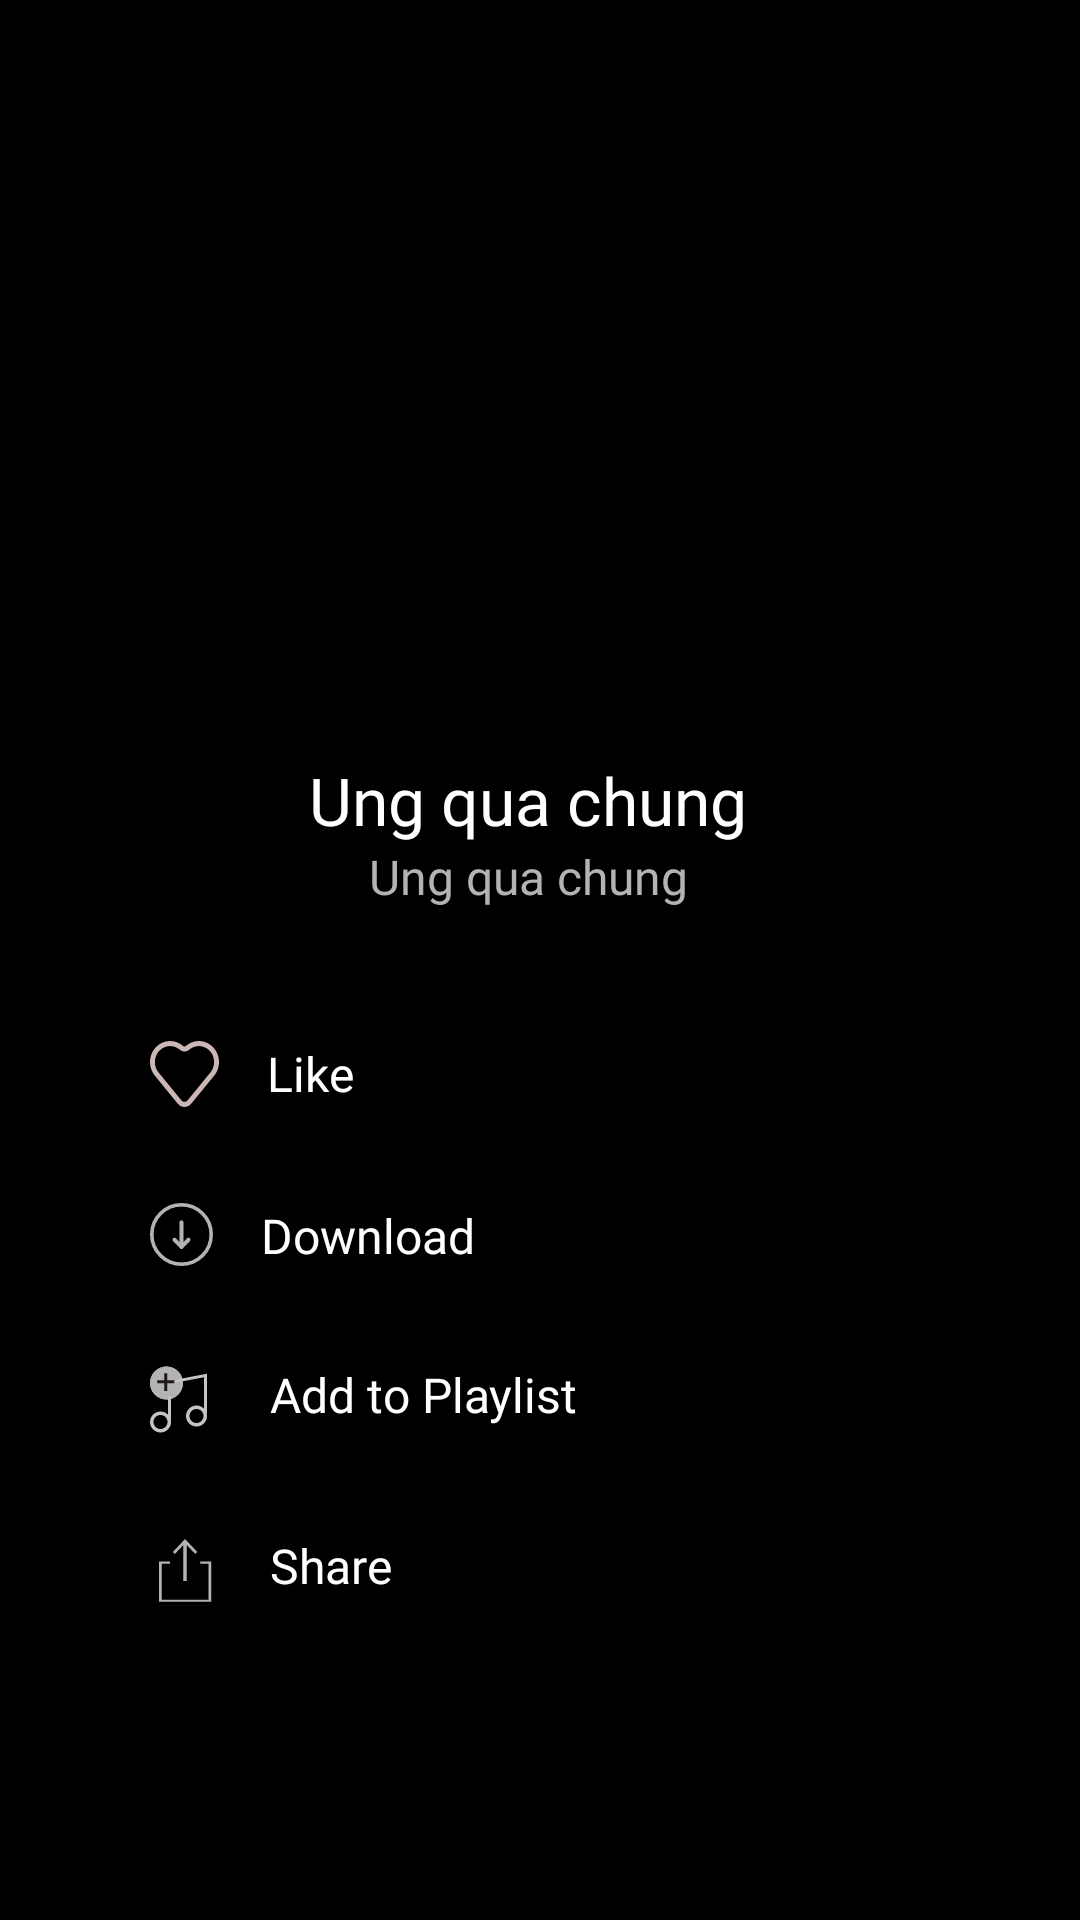

Locate icon controls on the screen. Image size 1080x1920, boxes as {"x1": x1, "y1": y1, "x2": x2, "y2": y2}.
add song: {"x1": 150, "y1": 1366, "x2": 207, "y2": 1433}
